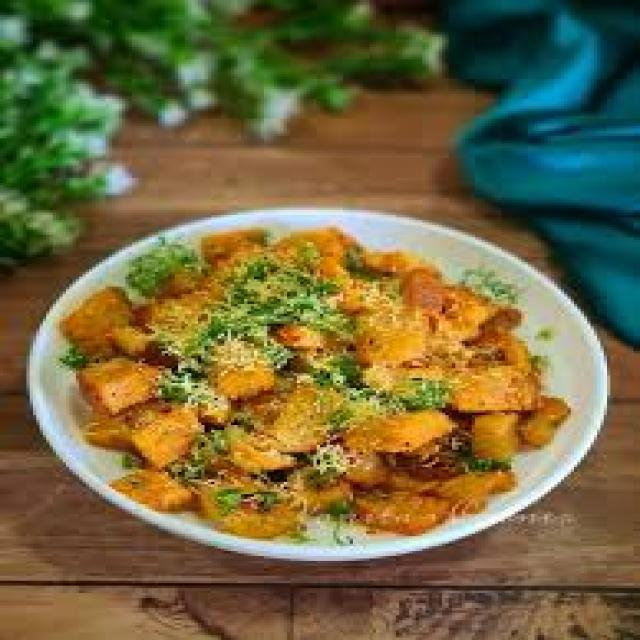POHA: (63, 227, 554, 539)
